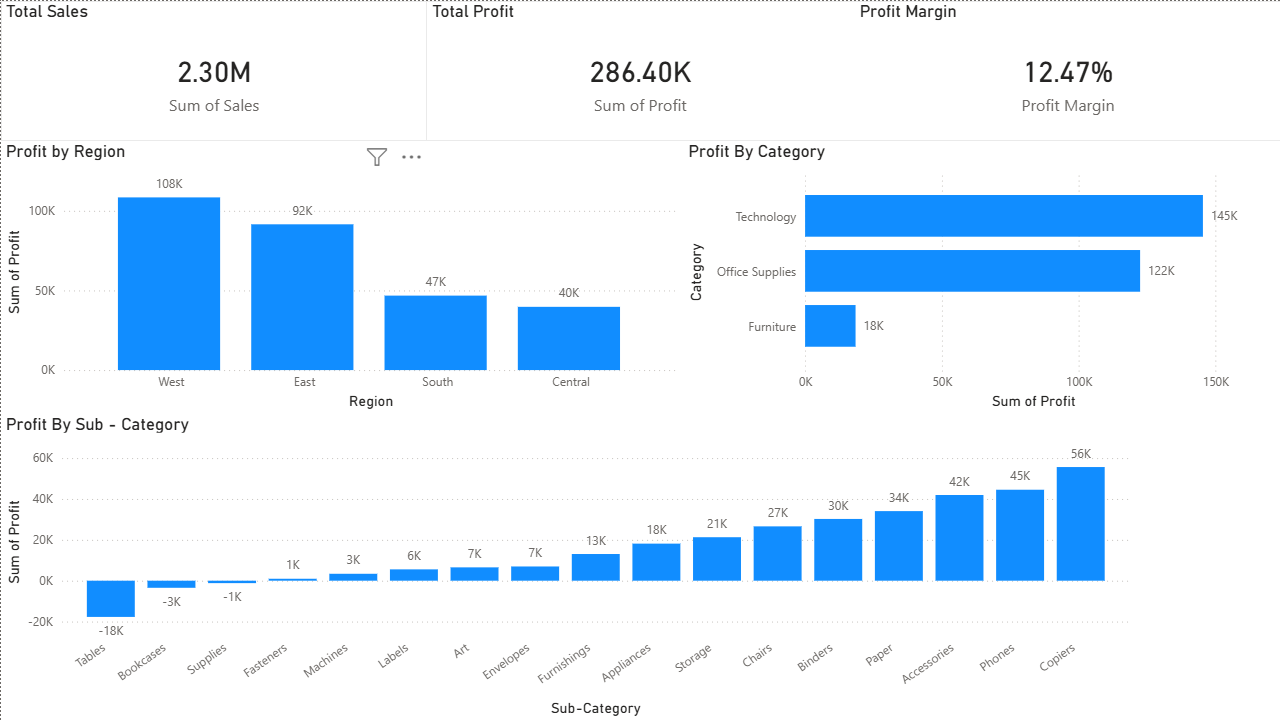

Layout of this report page (visuals, bound fields, positions):
{"tool":"powerbi","page":{"name":"Sales Performance Dashboard","canvas":[1280,720],"ordinal":0},"visuals":[{"type":"card","title":"Total Sales","fields":{"Values":["Sum(Superstore.Sales)"]},"box":[0,0,426.8,140],"z":0,"group":"g1"},{"type":"card","title":"Total Profit","fields":{"Values":["Sum(Superstore.Profit)"]},"box":[426.8,0,426.8,140],"z":1000,"group":"g1"},{"type":"card","title":"Profit Margin","fields":{"Values":["Superstore.Profit Margin"]},"box":[853.5,0,426.8,140],"z":2000,"group":"g1"},{"type":"clusteredColumnChart","title":"Profit by Region","fields":{"Category":["Superstore.Region"],"Y":["Sum(Superstore.Profit)"]},"box":[0,140,682,273.1],"z":2001},{"type":"clusteredBarChart","title":"Profit By Category","fields":{"Category":["Superstore.Category"],"Y":["Sum(Superstore.Profit)"]},"box":[682,140,598.3,273.1],"z":2002},{"type":"columnChart","title":"Profit By Sub - Category","fields":{"Category":["Superstore.Sub-Category"],"Y":["Sum(Superstore.Profit)"]},"box":[0,412.9,1133.7,308],"z":2003},{"type":"group","id":"g1","title":"Group 1","box":[0,0,1280.3,140],"z":2004}]}

Visuals, with their boxes in screenshot pixels (x1, y1, x2, y2), scaled from the page's 1280x720 canvas onto the 1280x720 screenshot:
"Total Sales" card: box(0, 0, 427, 140)
"Total Profit" card: box(427, 0, 854, 140)
"Profit Margin" card: box(854, 0, 1279, 140)
"Profit by Region" clusteredColumnChart: box(0, 140, 682, 413)
"Profit By Category" clusteredBarChart: box(682, 140, 1279, 413)
"Profit By Sub - Category" columnChart: box(0, 413, 1134, 719)
"Group 1" group: box(0, 0, 1279, 140)
